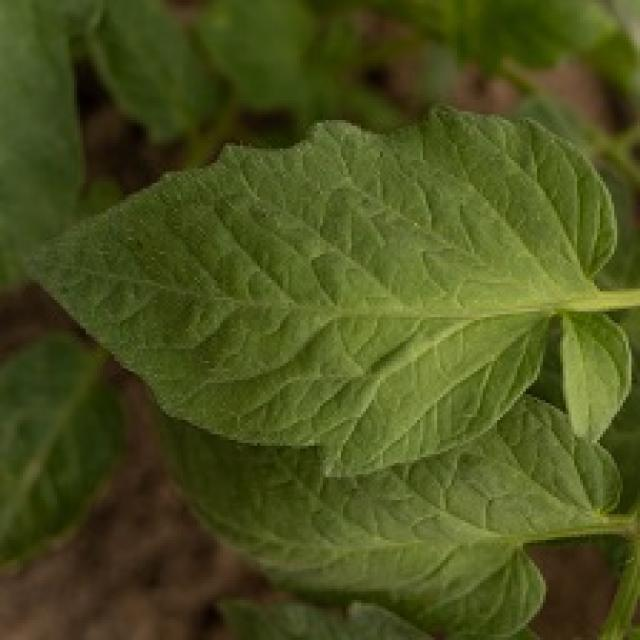Healthy: (19, 86, 640, 508)
